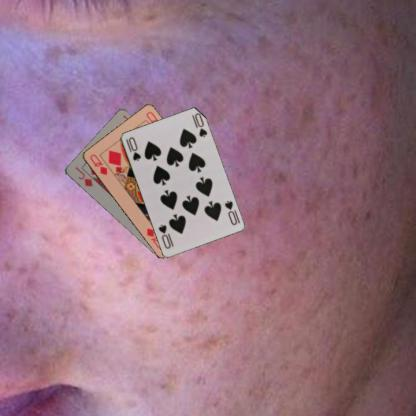10s: (123, 134, 142, 162), (222, 198, 238, 226)
Jd: (72, 164, 94, 188)
Qd: (86, 151, 108, 177)
